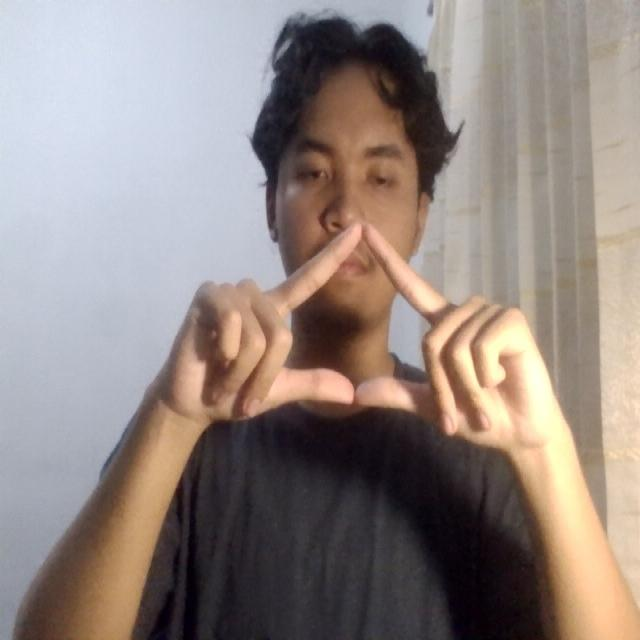A: (144, 214, 562, 454)
